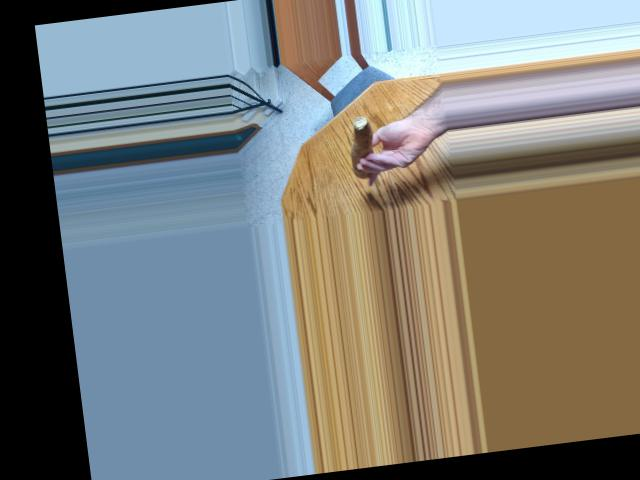sweet_potato: (343, 116, 383, 172)
